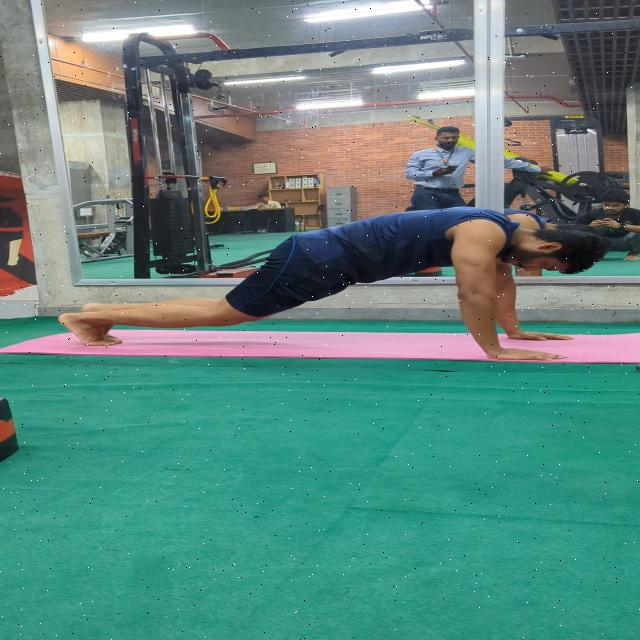Normal_MountainClimbers: (47, 199, 608, 361)
